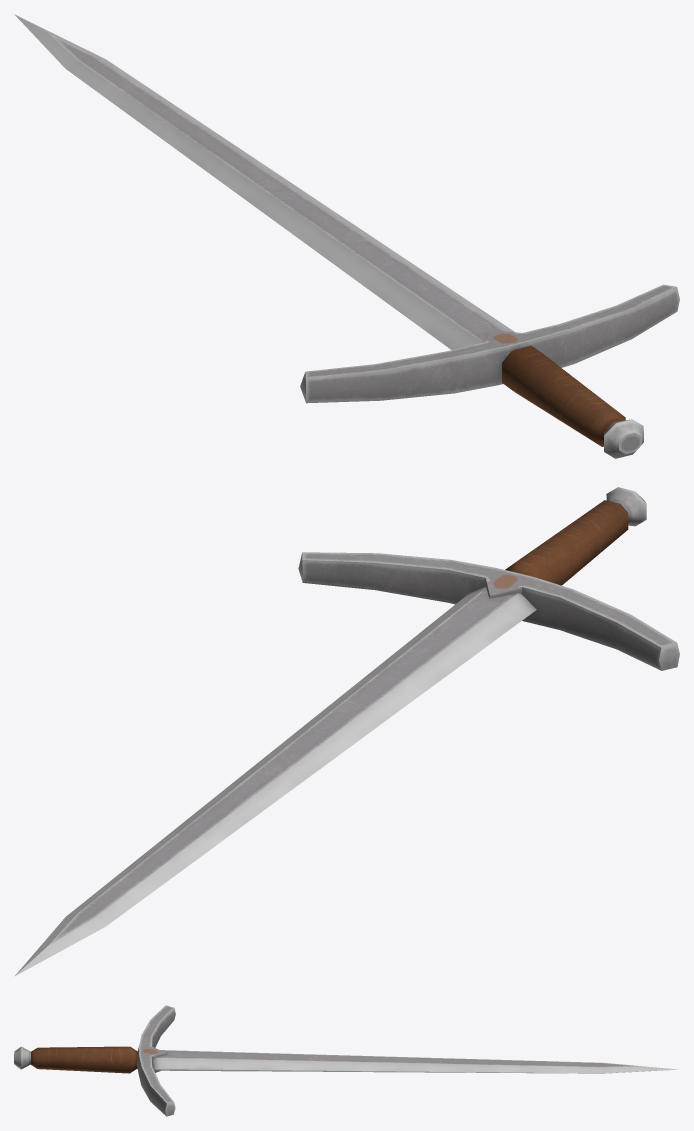
The picture shows the model from 3 angles, top to bottom: view 1: azimuth 30°, elevation 25°; view 2: azimuth 150°, elevation 25°; view 3: azimuth 270°, elevation 25°; orthographic projection. The views are drawn at different scales.
Parts seen in each view (by area): view 1: submesh_0; view 2: submesh_0; view 3: submesh_0.
Boxes of the visible parts, box(x1,y1,x2,y2) form: submesh_0: box(14, 14, 679, 458); submesh_0: box(14, 487, 679, 976); submesh_0: box(14, 1005, 678, 1116).
Bounding box in the file's own units: 0.4491 × 0.0489 × 1.28.
Materials: 1 (1 with a texture image).
